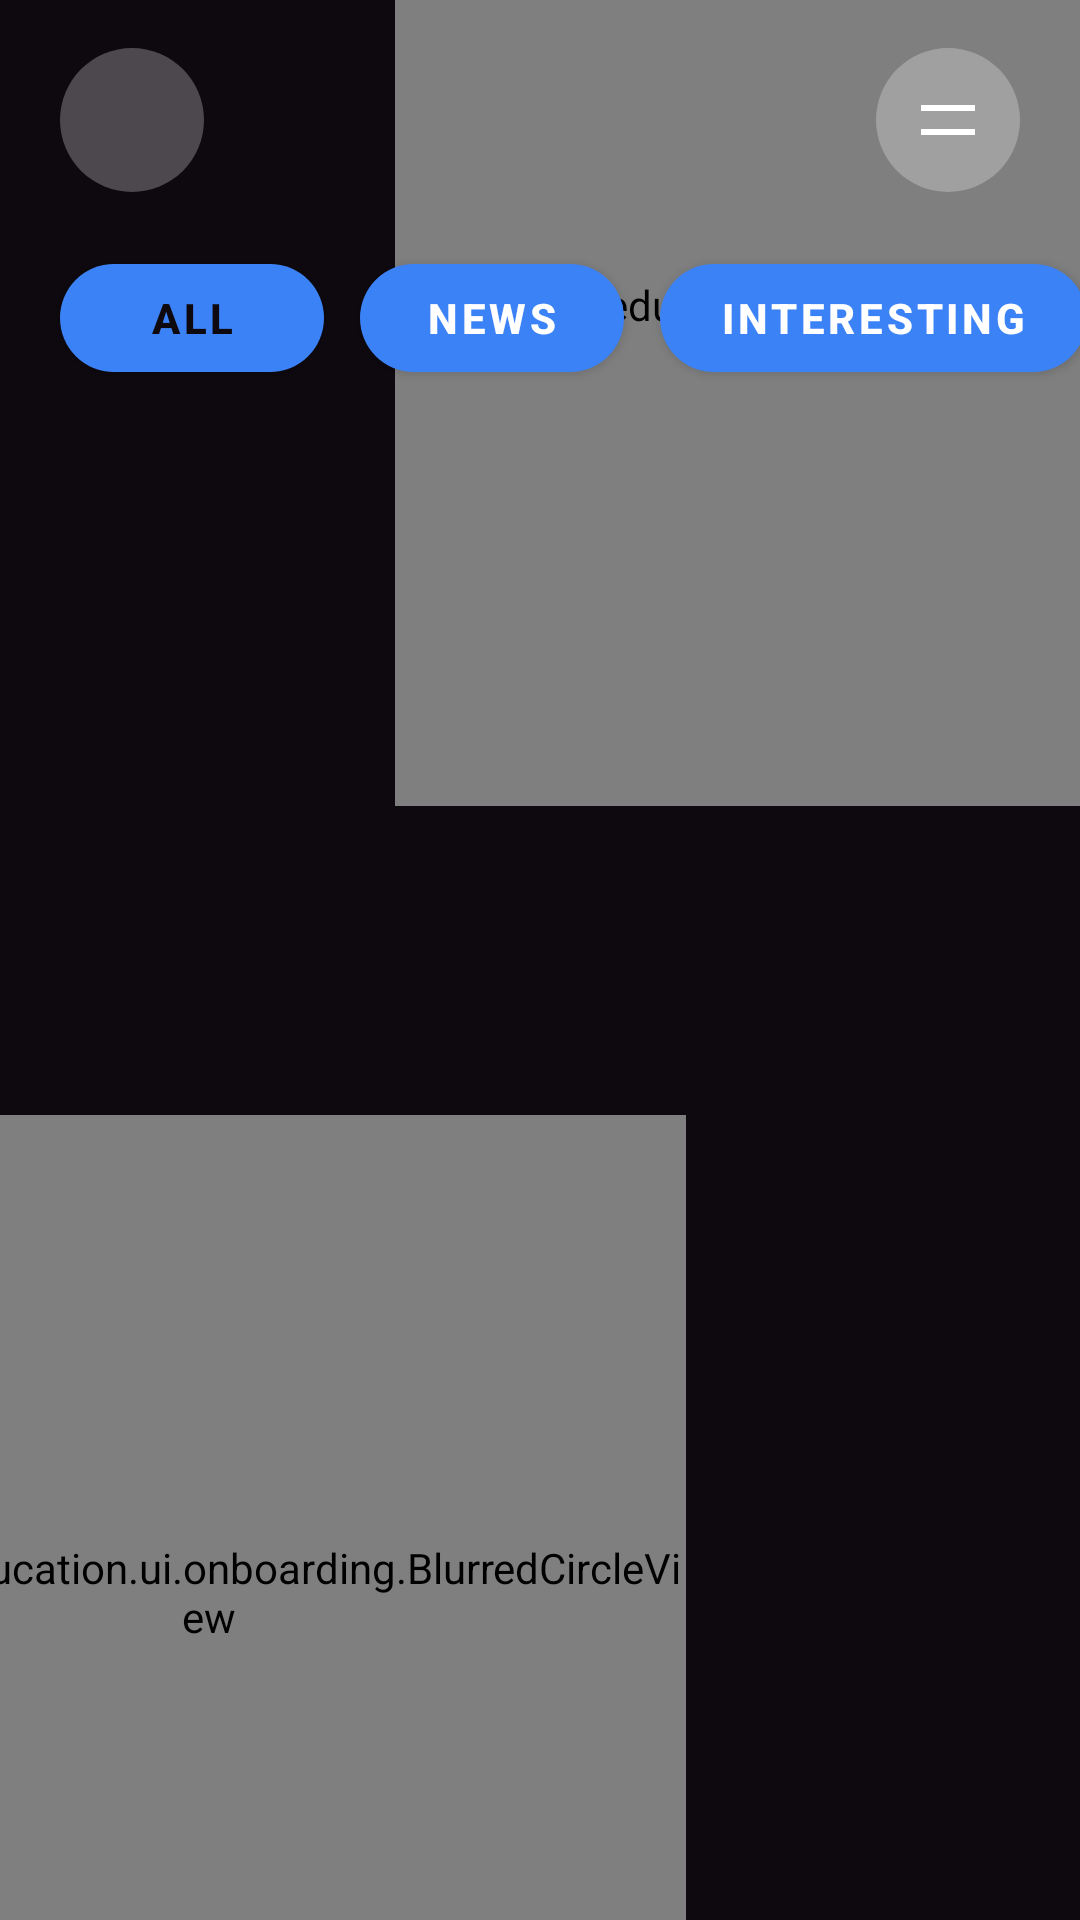

Icons on this 1080 × 1920 Android screen, each with its box as [x1, y1, x2, y2]:
Menu: [876, 48, 1020, 192]
